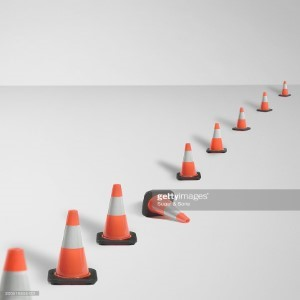traffic cone: (47, 208, 97, 285), (96, 184, 137, 246), (1, 247, 32, 300), (142, 189, 190, 223), (176, 142, 201, 180), (206, 122, 227, 153), (232, 105, 250, 131), (256, 91, 272, 111), (278, 80, 292, 97)
